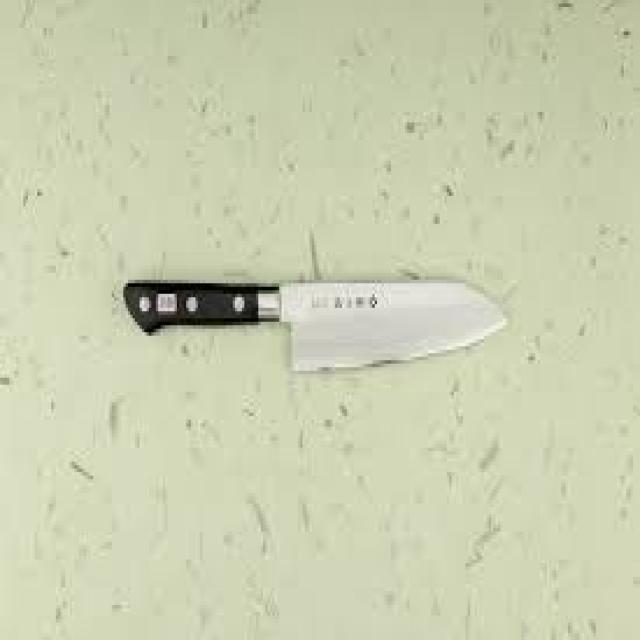knife: (123, 280, 509, 372)
